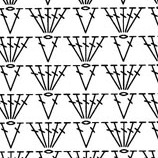chain: (81, 6, 89, 11)
enseble_chain: (117, 117, 153, 154), (78, 31, 114, 67), (42, 118, 77, 154), (4, 32, 39, 68), (114, 3, 149, 38), (79, 89, 114, 124), (4, 89, 39, 124), (42, 61, 76, 97), (39, 4, 73, 39), (60, 30, 90, 67), (21, 1, 50, 38), (37, 33, 68, 67), (99, 117, 129, 152), (112, 33, 143, 66), (114, 91, 144, 124), (61, 89, 89, 124), (27, 117, 55, 152), (39, 91, 68, 124), (134, 31, 158, 66), (4, 64, 30, 95), (80, 121, 105, 151), (136, 89, 158, 123), (5, 121, 29, 151), (80, 64, 104, 94), (80, 7, 103, 37), (5, 7, 27, 37), (76, 93, 94, 119), (119, 63, 136, 90), (0, 36, 15, 65)
fan: (25, 62, 52, 96), (2, 36, 17, 64), (2, 93, 17, 119)
